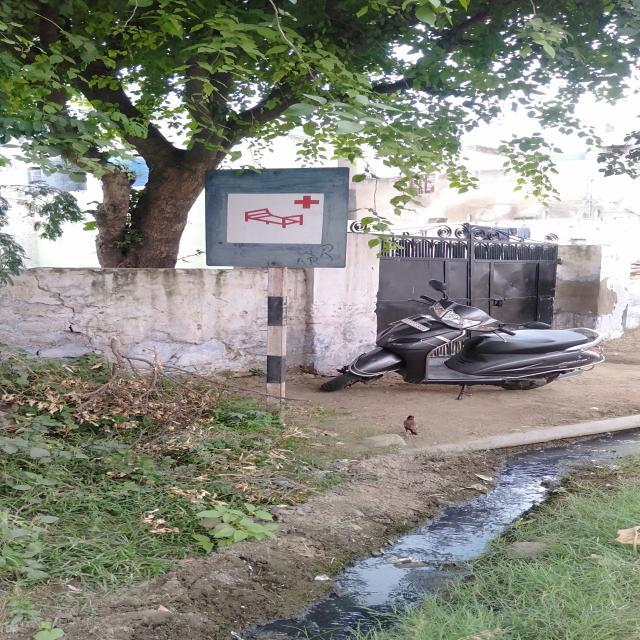hospital ahead: (217, 187, 332, 251)
